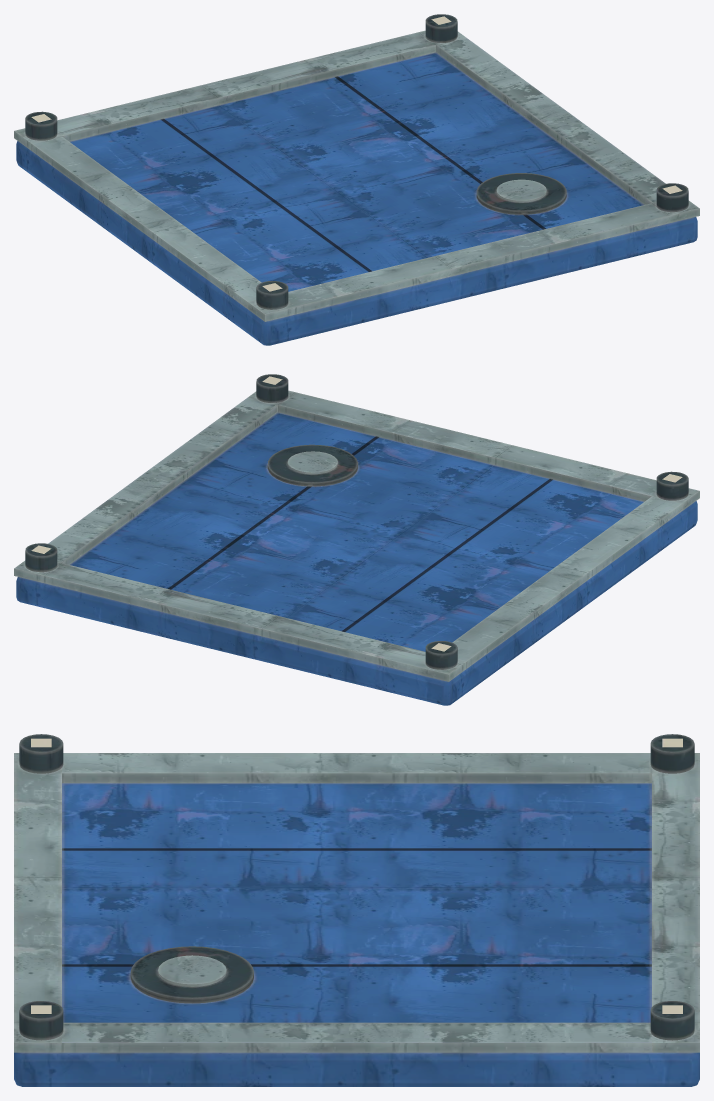
The model's file is hull_platform_underwater.glb.
3 views of the same model, one above another, from view 1: azimuth 30°, elevation 25°; view 2: azimuth 150°, elevation 25°; view 3: azimuth 270°, elevation 25° (orthographic). The views are drawn at different scales.
Parts seen in each view (by area): view 1: te_hull_platform_underwater; view 2: te_hull_platform_underwater; view 3: te_hull_platform_underwater.
Part boxes in pixels (x1,y1,x2,y2): te_hull_platform_underwater: (14,14,699,345); te_hull_platform_underwater: (14,374,699,705); te_hull_platform_underwater: (14,734,699,1086).
Bounding box in the file's own units: 1 × 0.1106 × 1.
1 material, 1 textured.
